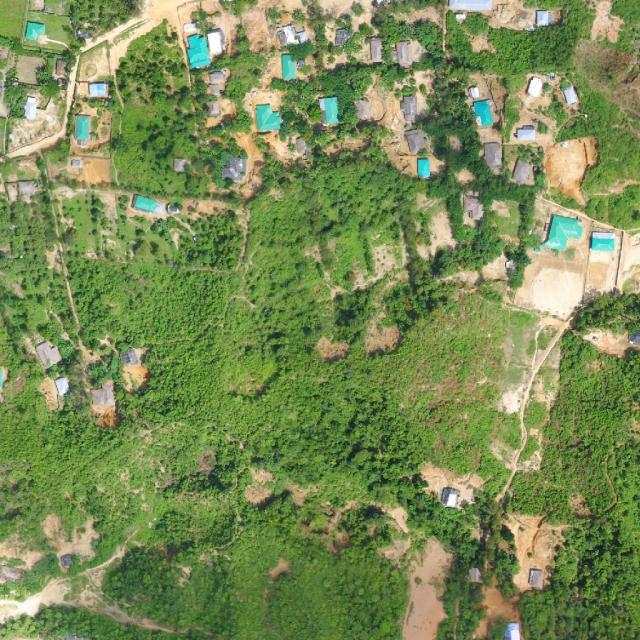building: (542, 211, 586, 257), (87, 379, 120, 431), (183, 32, 212, 70), (33, 338, 64, 370), (275, 22, 308, 47), (256, 104, 281, 131), (131, 194, 166, 213), (472, 99, 494, 128), (319, 96, 340, 125), (404, 130, 428, 155), (118, 346, 142, 370), (206, 28, 227, 55), (439, 485, 461, 509), (512, 160, 533, 185), (484, 142, 503, 169), (25, 21, 47, 42), (592, 231, 615, 251), (396, 41, 413, 67), (281, 53, 296, 80), (75, 116, 91, 141), (402, 96, 418, 121), (527, 76, 545, 98), (370, 37, 383, 63), (88, 82, 108, 98), (516, 125, 536, 141), (563, 85, 579, 105), (504, 622, 521, 639), (529, 569, 544, 588), (417, 158, 430, 179), (55, 378, 69, 396), (208, 83, 222, 97)
dryland: (401, 535, 457, 640), (499, 513, 567, 595), (0, 574, 76, 628), (544, 136, 598, 205), (476, 584, 523, 640), (238, 7, 273, 55), (320, 1, 356, 15), (283, 0, 309, 12)
greenland: (0, 24, 640, 640), (71, 0, 139, 39), (23, 9, 77, 46), (31, 61, 62, 100), (0, 0, 26, 38), (20, 37, 41, 51), (43, 42, 65, 54)
